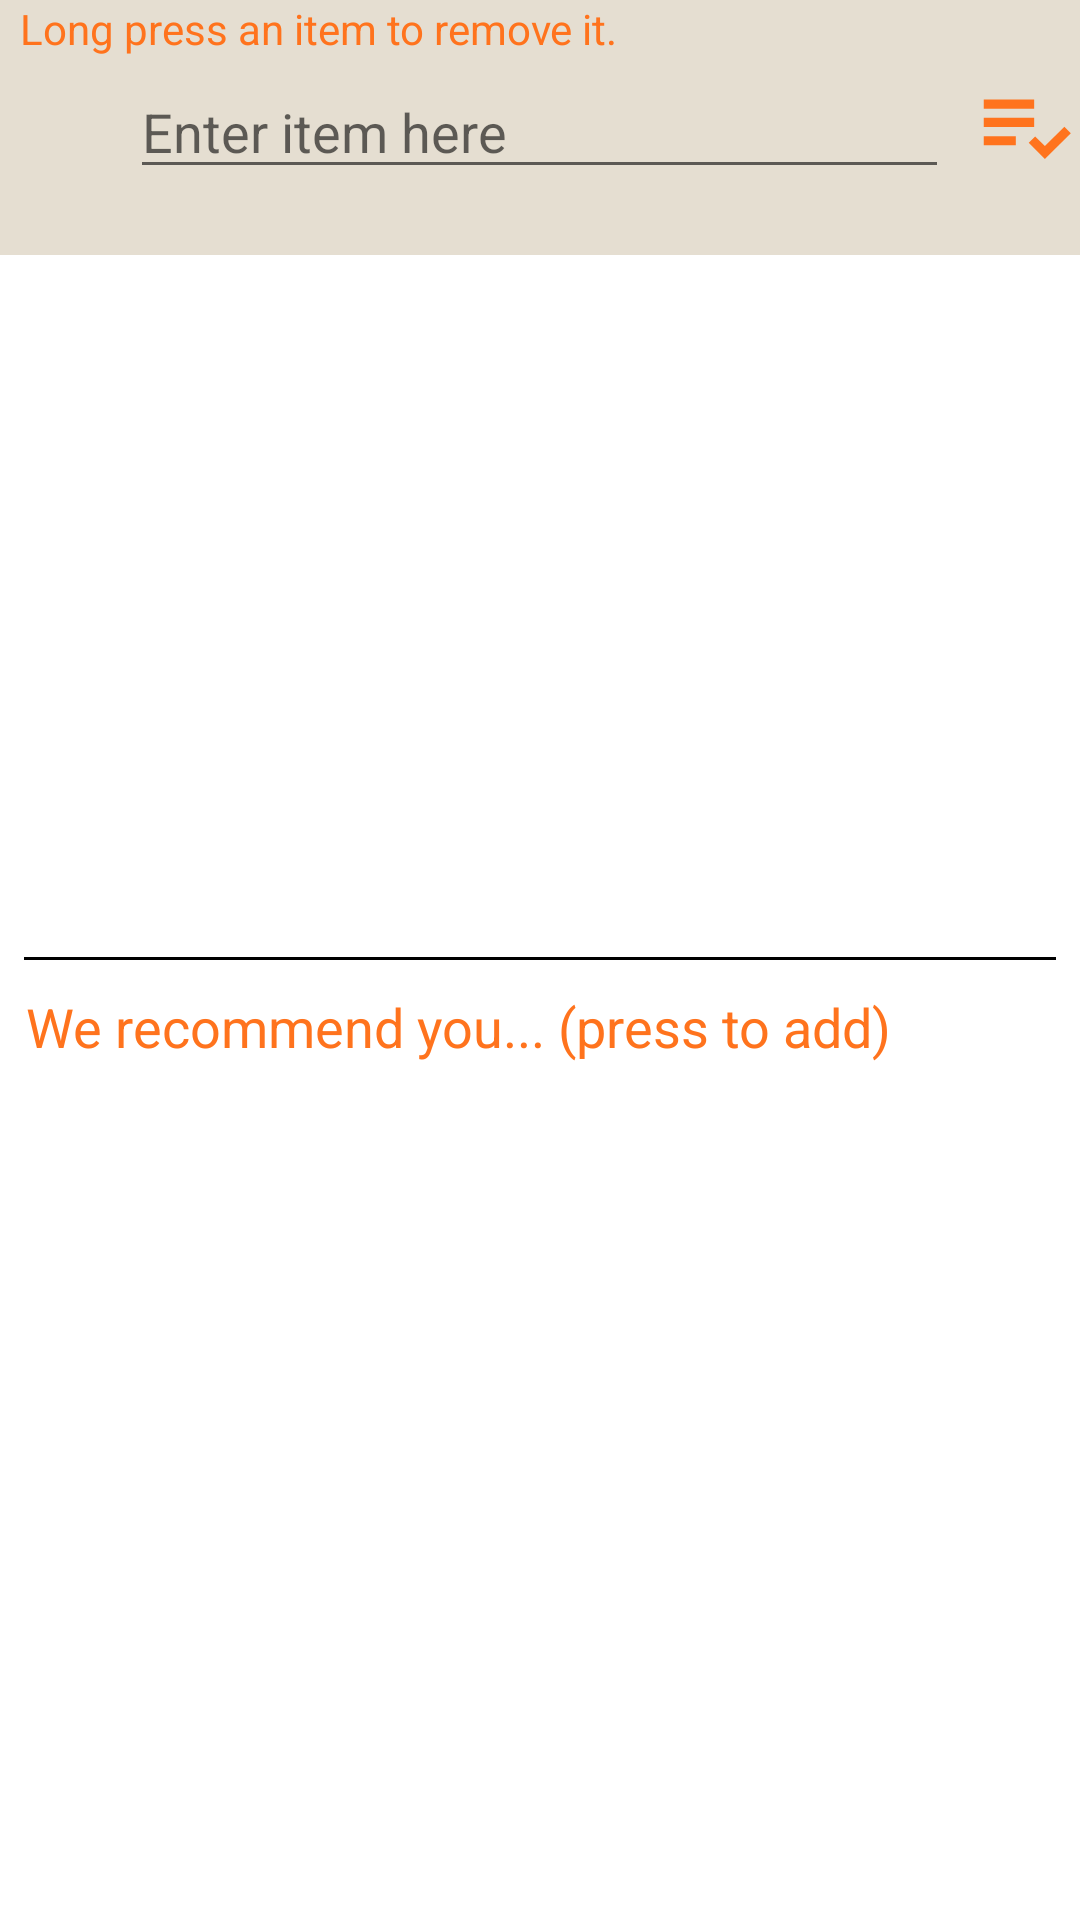

Named icons in this screenshot (1080*1920) and their bounding boxes, detection(x1, y1, x2, y2):
add item: detection(983, 99, 1071, 159)
